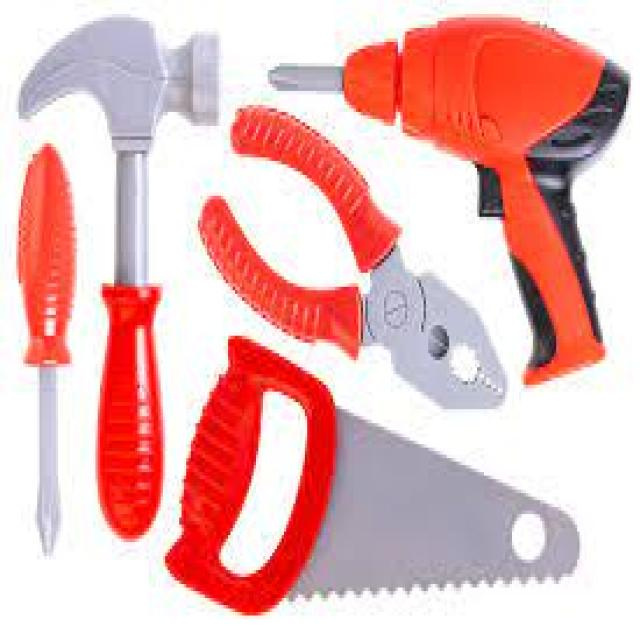Screwdriver: (17, 145, 75, 553)
